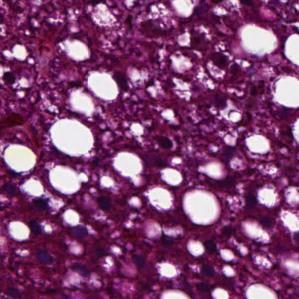steatosis: (49, 112, 93, 158), (182, 192, 219, 225)
